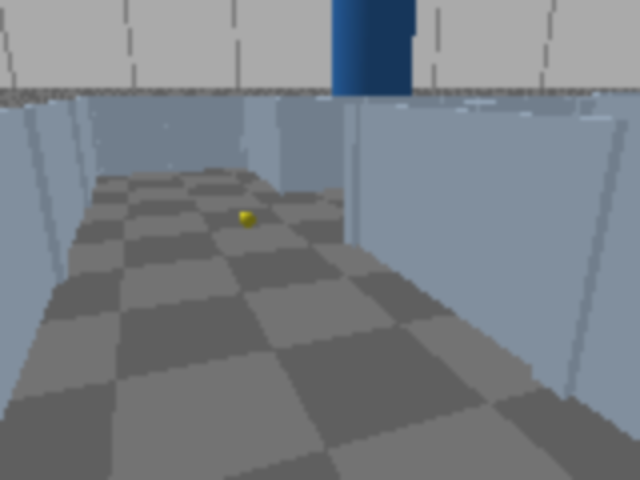puck: (239, 210, 256, 229)
